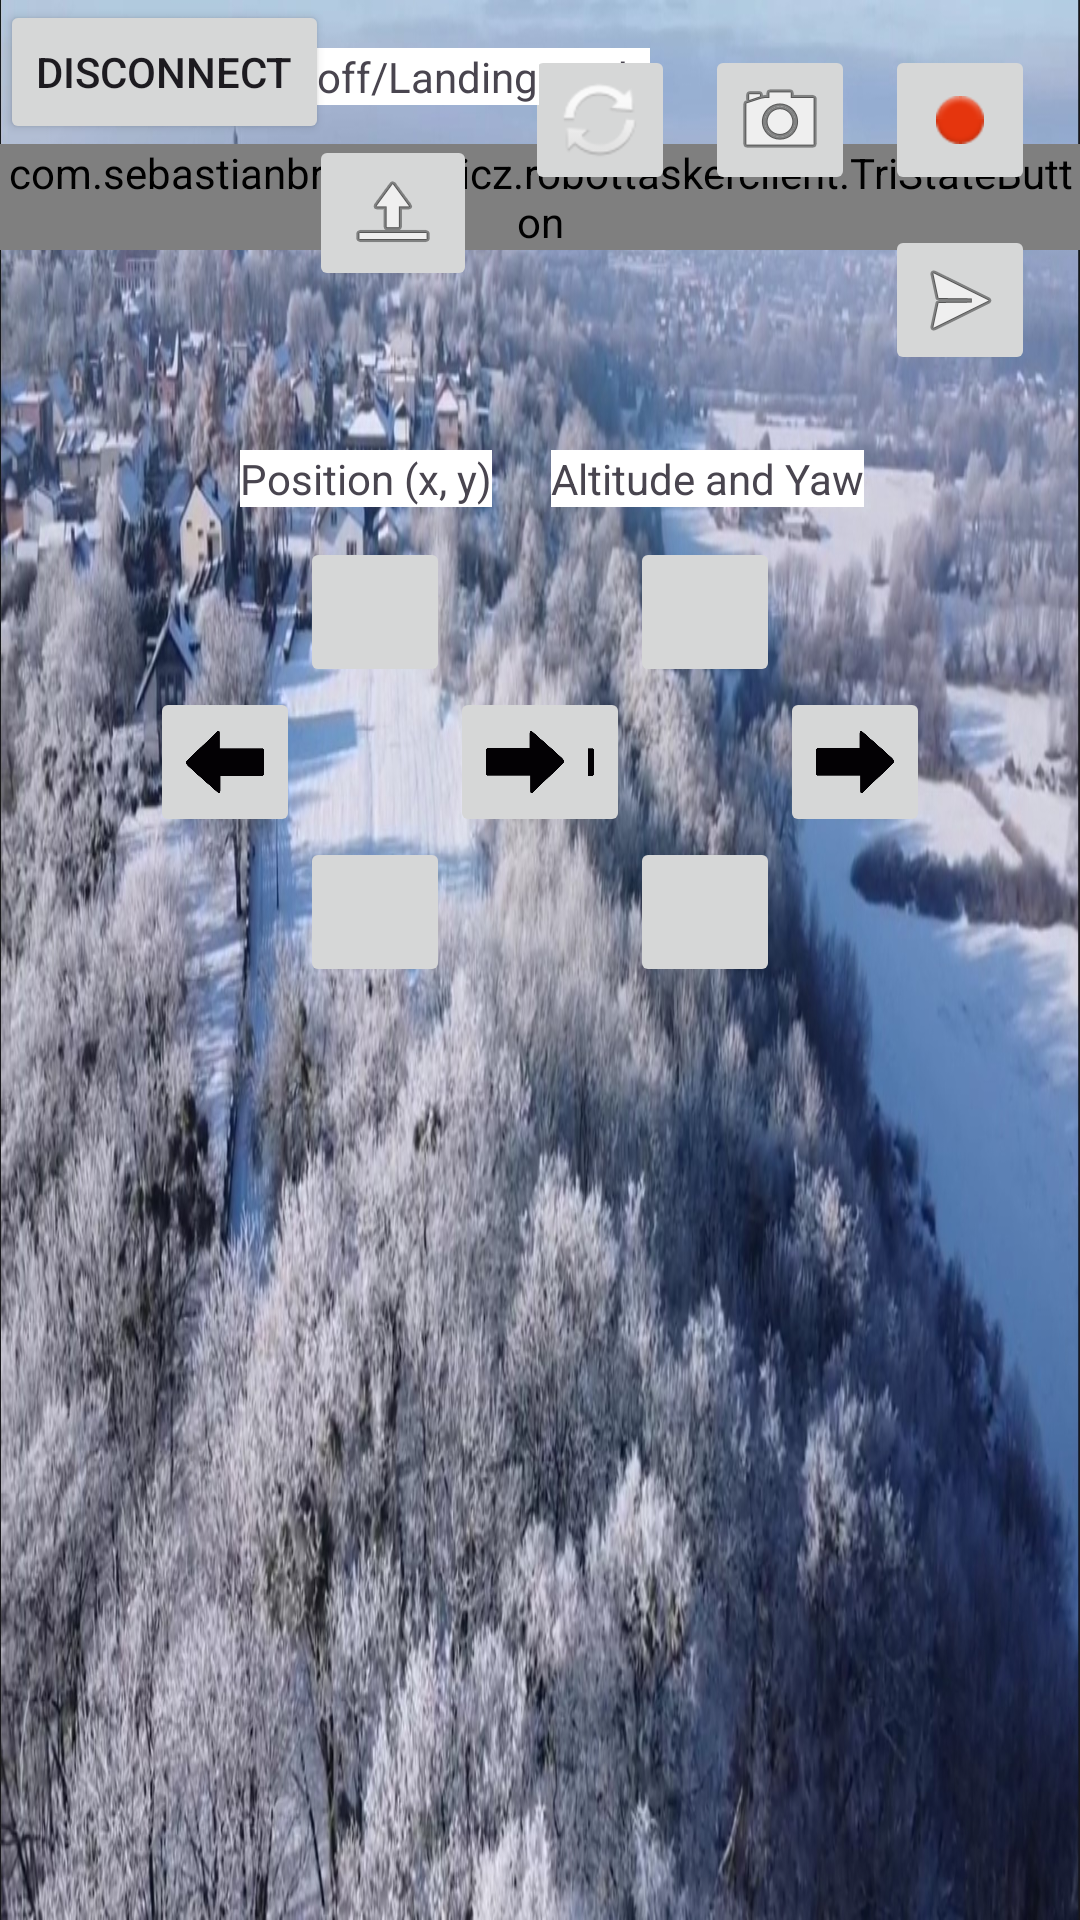

Icons on this 1080×1920 Android screen, each with the point to tap as [x,y]:
camera: [780,120]
popup sync: [600,120]
send: [960,300]
upload: [393,213]
